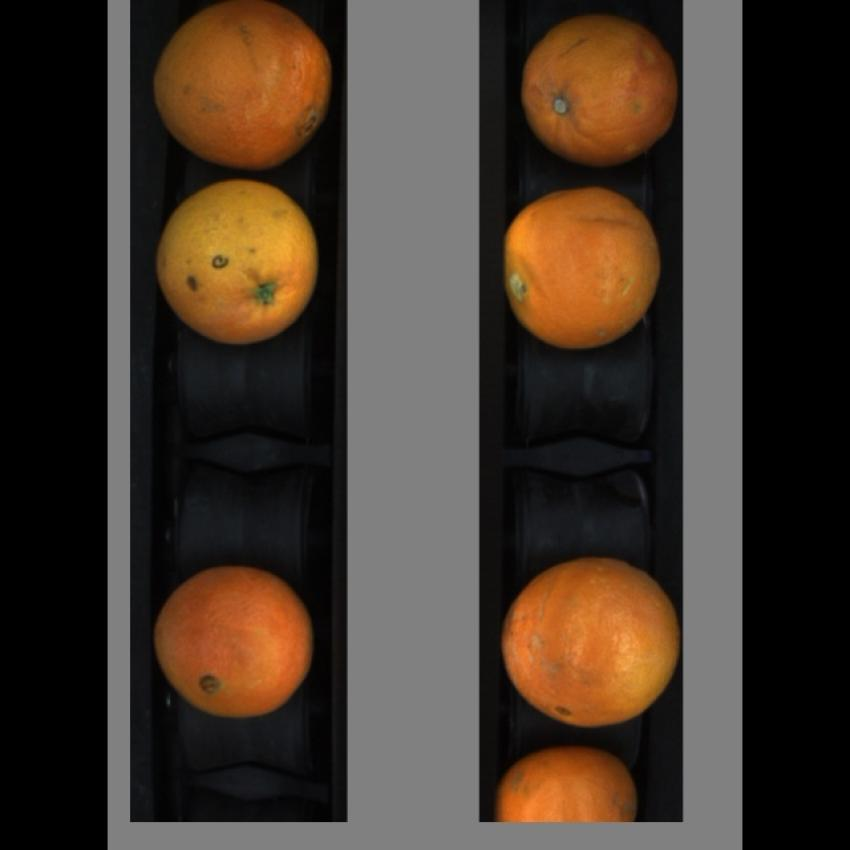Buen estado: (149, 1, 333, 168), (152, 175, 331, 345)
Mal estado: (502, 169, 668, 350), (500, 557, 670, 726), (151, 560, 322, 716), (520, 12, 684, 161), (497, 744, 640, 823)
